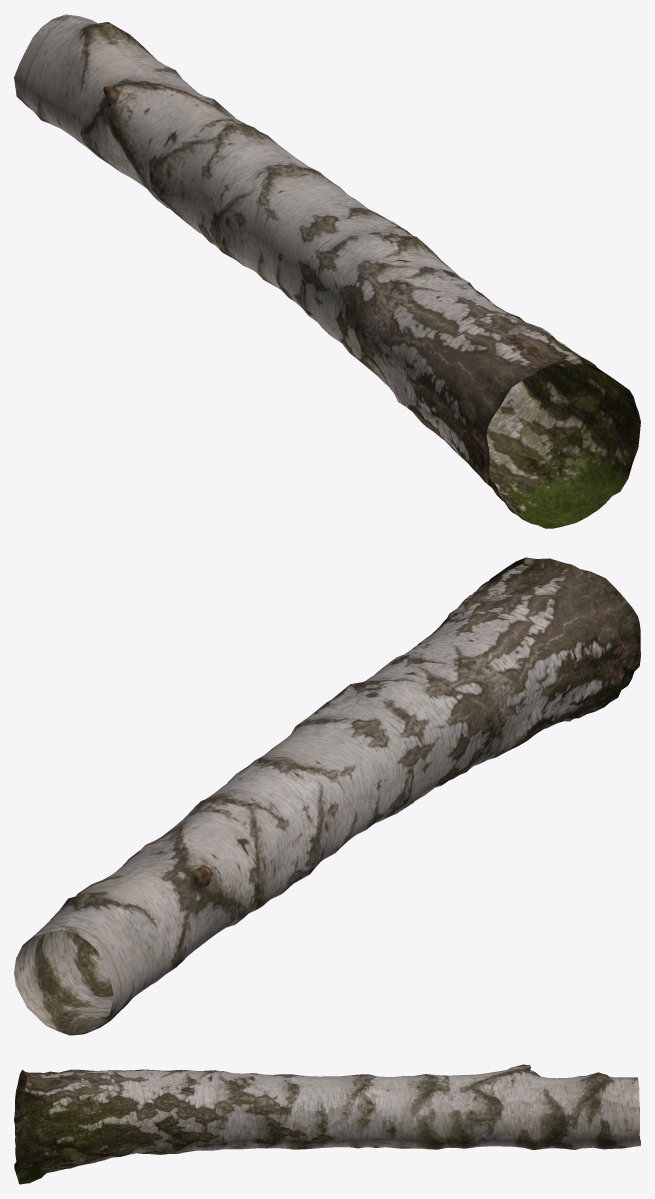
The model's file is TexturesCom_BirchTree_lp.obj.
The picture shows the model from 3 angles, top to bottom: view 1: azimuth 30°, elevation 25°; view 2: azimuth 150°, elevation 25°; view 3: azimuth 270°, elevation 25°; orthographic projection. The views are drawn at different scales.
Visible parts, largest first — view 1: 10156_treebirch_lp; view 2: 10156_treebirch_lp; view 3: 10156_treebirch_lp.
Part boxes in pixels (<box>): 10156_treebirch_lp: <box>14,14,640,528</box>; 10156_treebirch_lp: <box>14,557,640,1035</box>; 10156_treebirch_lp: <box>14,1064,640,1184</box>.
Bounding box in the file's own units: 41.92 × 43.29 × 237.
